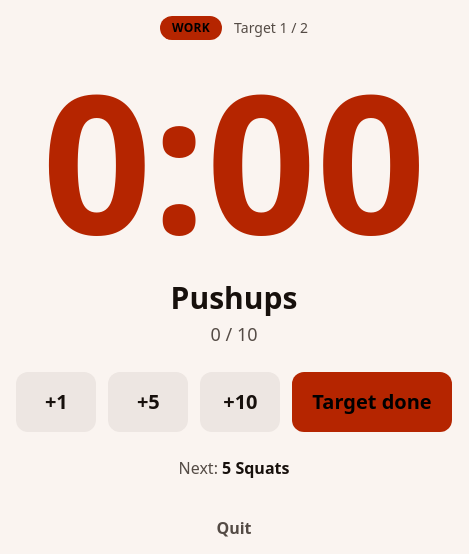
RepPlayer › logs reps in chunks against the current target
Click the button "+5" at (148, 402), box x1=108 y1=372 x2=188 y2=432
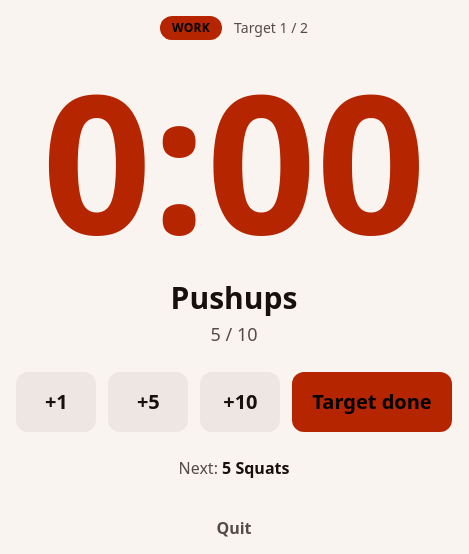
Expected: the text "Target 1 / 2" is shown, x1=234 y1=18 x2=308 y2=38
Expected: the text "5 / 10" is shown, x1=210 y1=322 x2=258 y2=346
